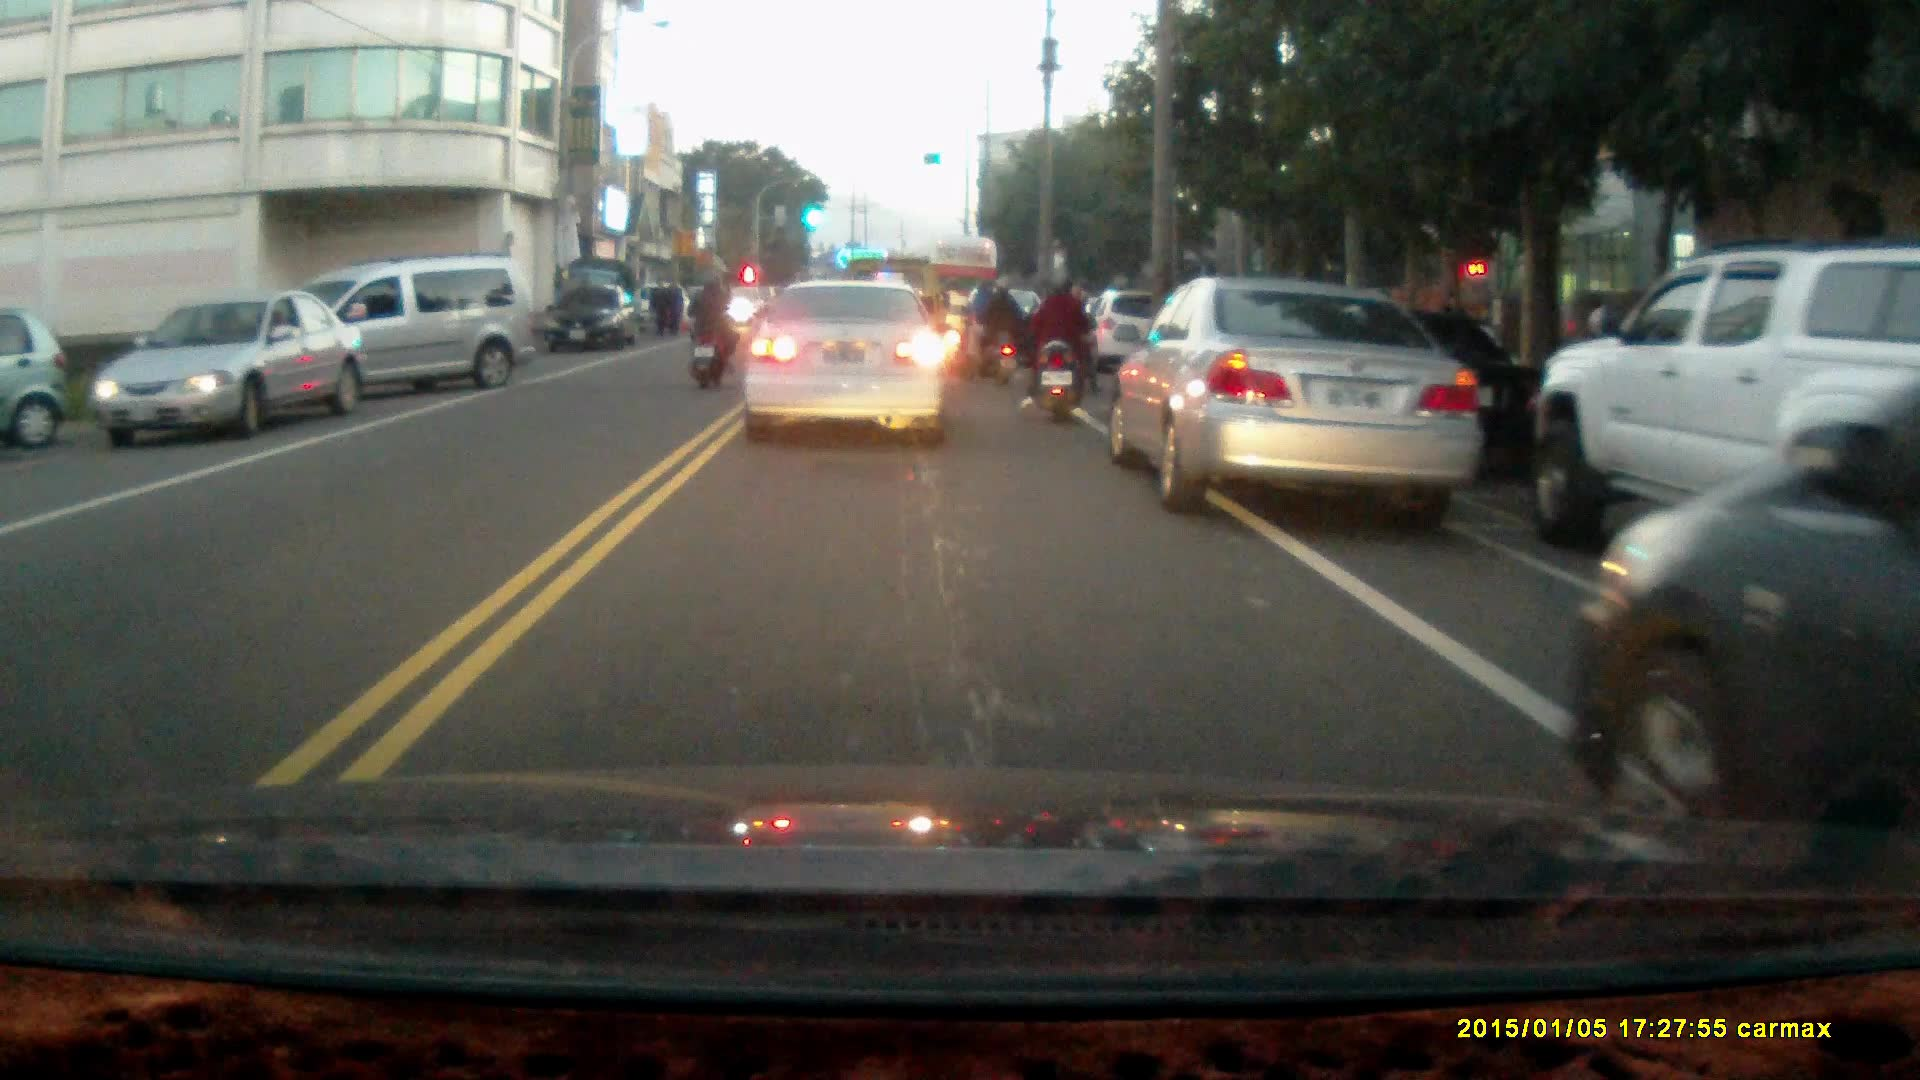pedestrian: (648, 276, 673, 340)
rider: (1017, 266, 1099, 423), (958, 270, 1023, 384), (685, 275, 735, 389)
vehicle: (1572, 373, 1920, 875), (1524, 245, 1920, 556), (1104, 269, 1482, 514), (247, 255, 541, 414), (94, 292, 364, 443), (740, 277, 950, 451), (1, 296, 70, 449), (542, 282, 640, 353)
